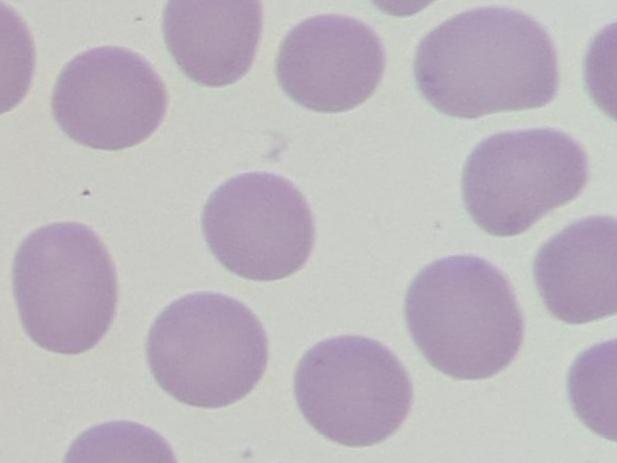Uninfected: (413, 5, 564, 120), (146, 290, 272, 410), (404, 254, 521, 381), (459, 125, 589, 236), (11, 224, 117, 357), (290, 337, 415, 448), (51, 45, 171, 151), (200, 172, 316, 281), (278, 12, 385, 117), (532, 212, 617, 322), (161, 0, 262, 88)
